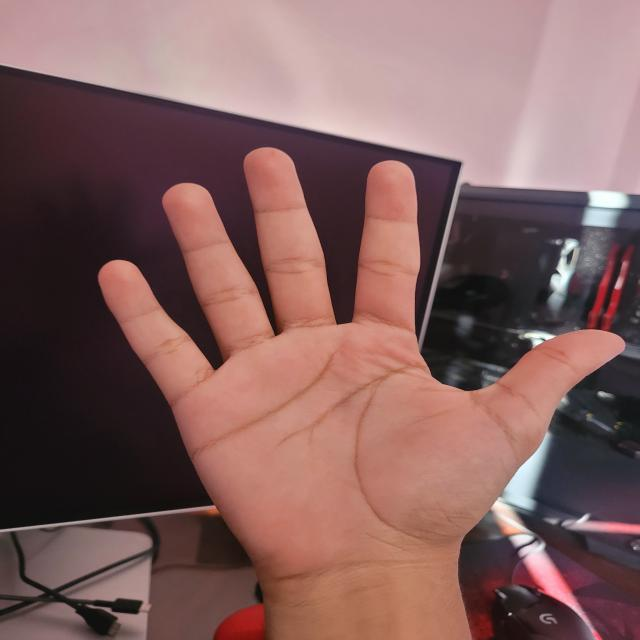Open Hand: (99, 147, 626, 578)
